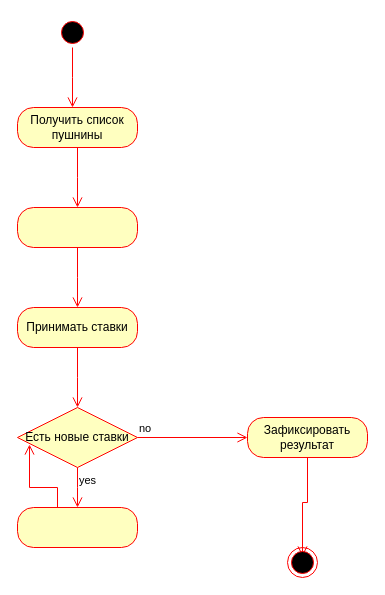
The diagram is 385 pixels wide and 595 high, and some of its shapes have lost their labels. The shapes that lost their labels are listed below. From the top down, each one's centre as x and y in pixels, then its label:
(77,227): Определить стартовую цену
(77,527): Обновить цену
